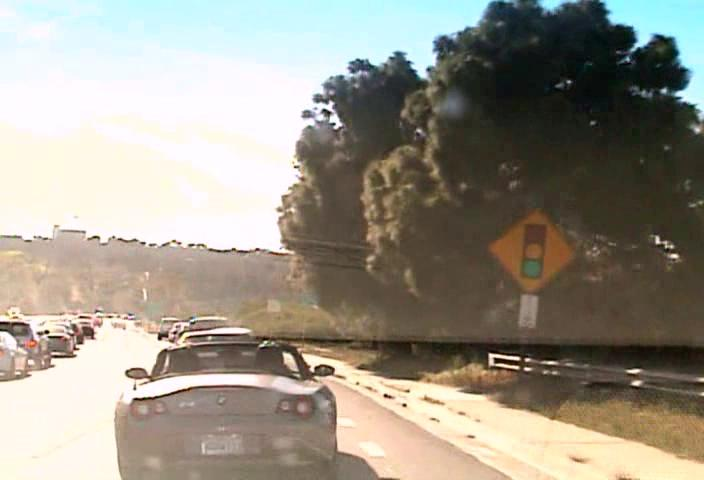signalAhead: (487, 206, 576, 293)
